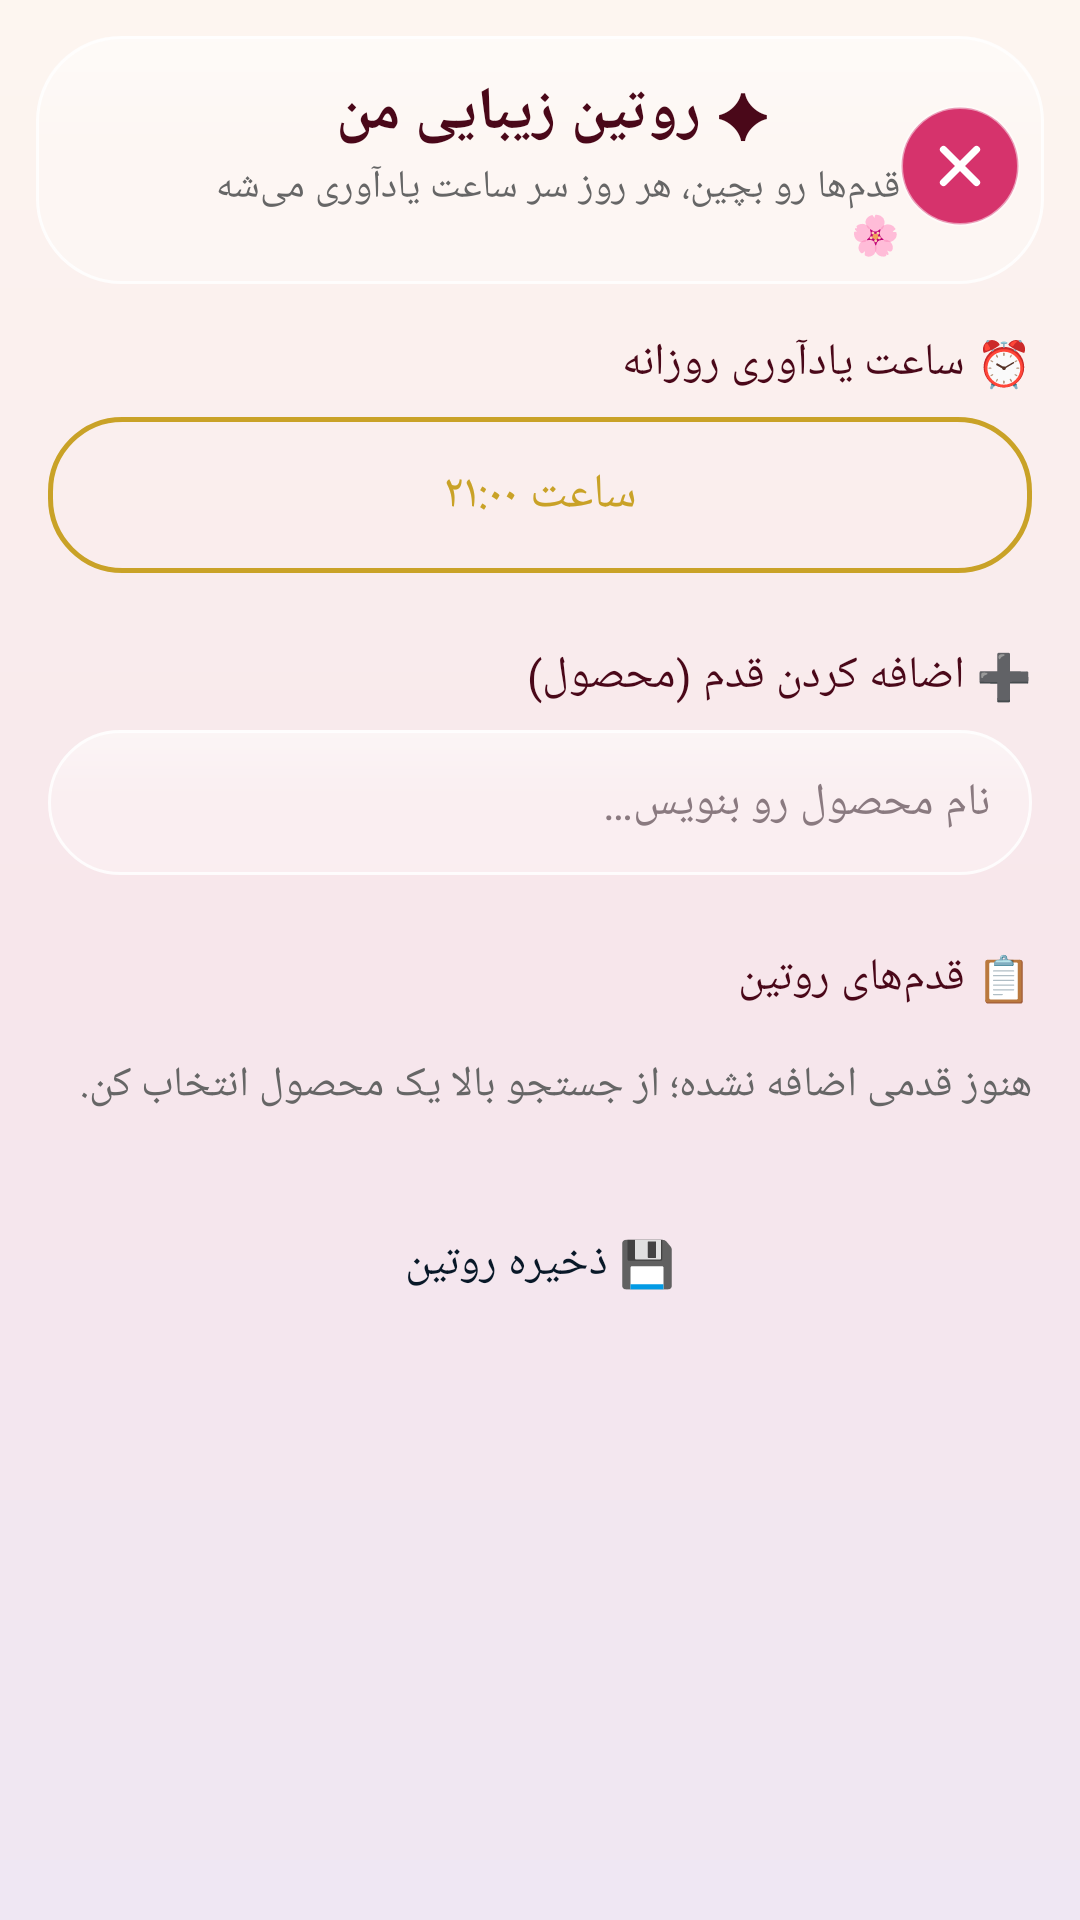

Where icons sit on this 1080 x 1920 app screen, as (x1, y1, x2, y2):
بستن: (901, 107, 1019, 225)
